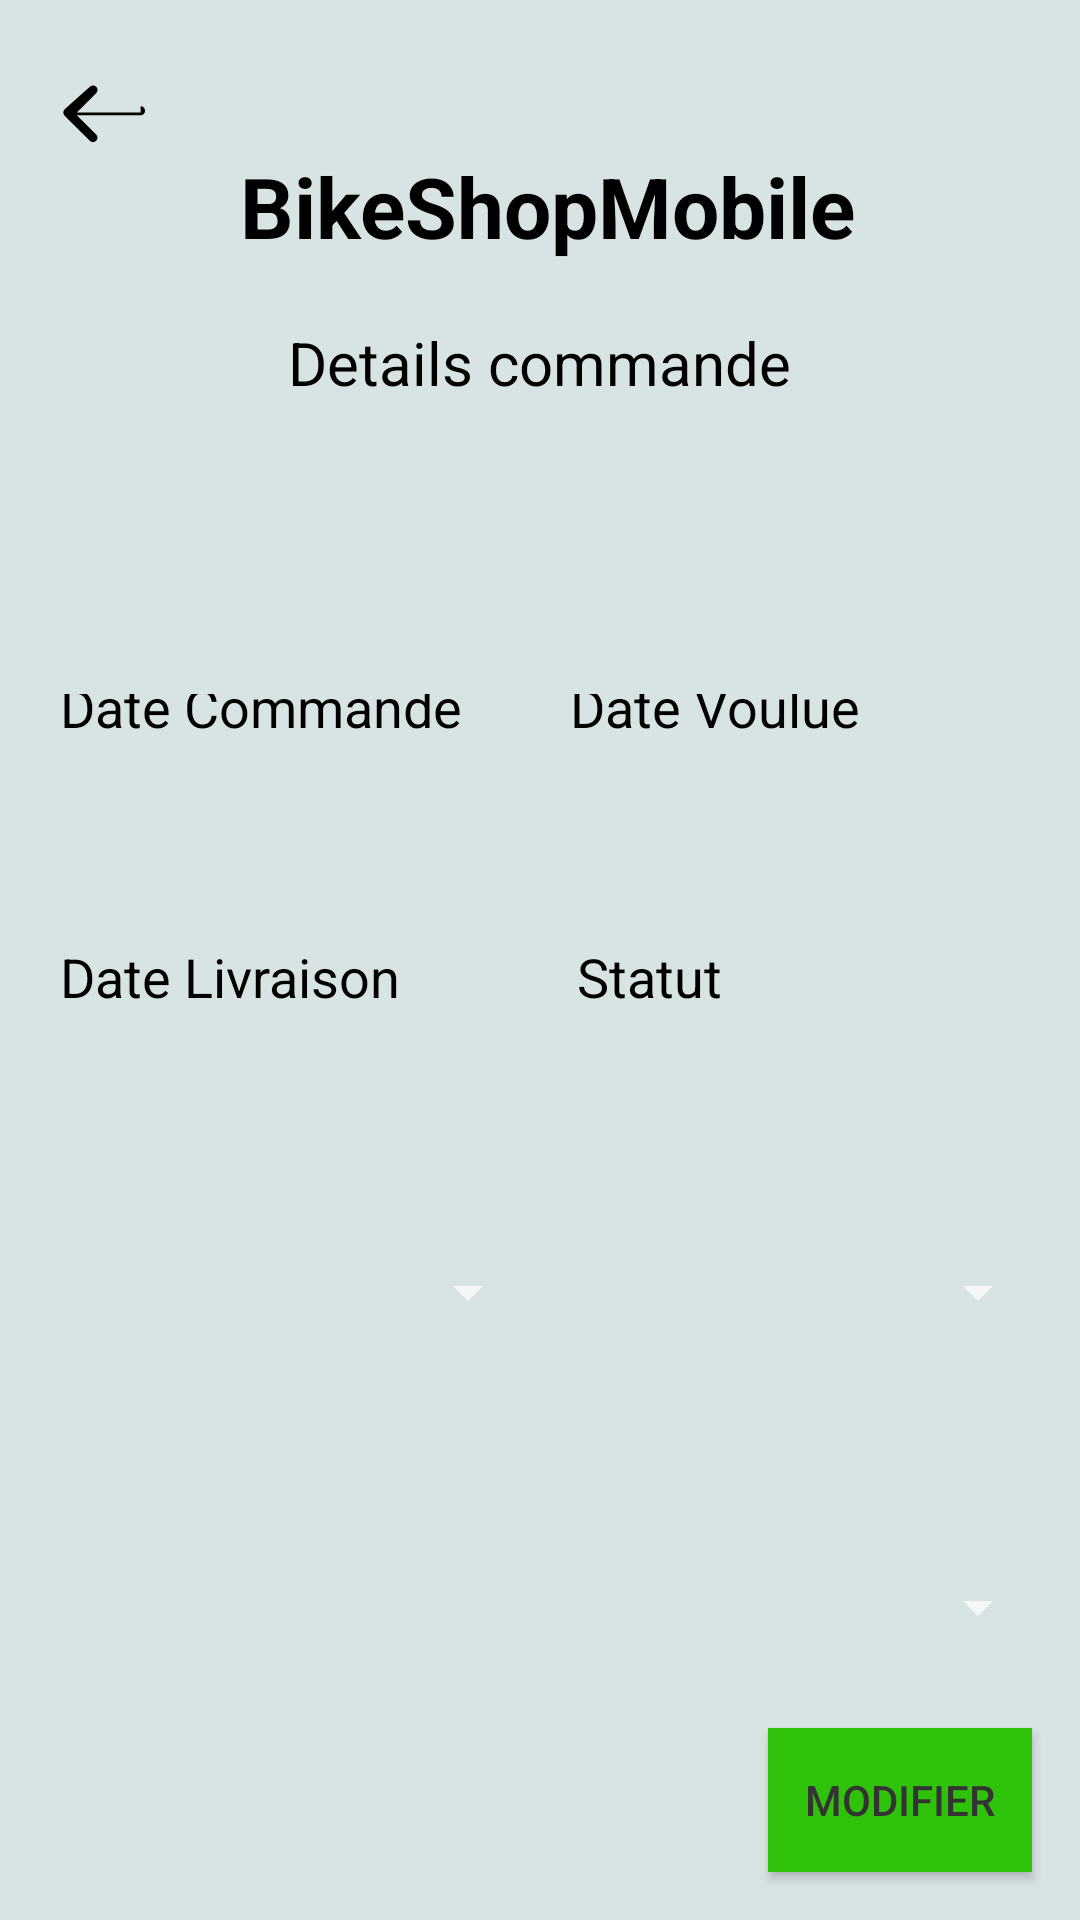

Named icons in this screenshot (1080×1920) and their centers, [x,y]:
back: [104,114]
